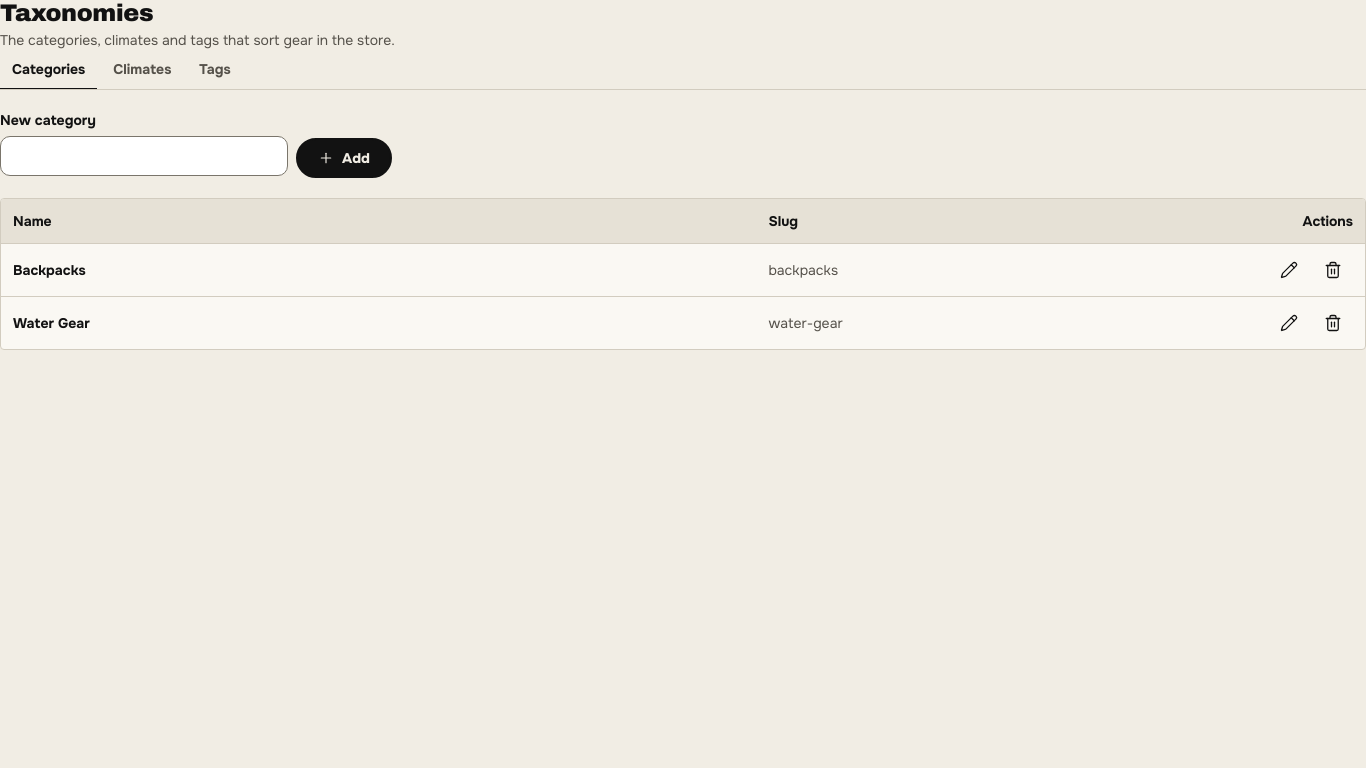
TaxonomiesPage › explains that gear still uses an item it cannot delete
Expected: the table named "Categories" is shown, top-left (1, 199), bottom-right (1365, 349)
Expected: the text "Backpacks" is shown, top-left (1, 244), bottom-right (756, 297)
Click the button named "Delete Backpacks" at (1333, 270), box top-left (1313, 250), bottom-right (1353, 290)
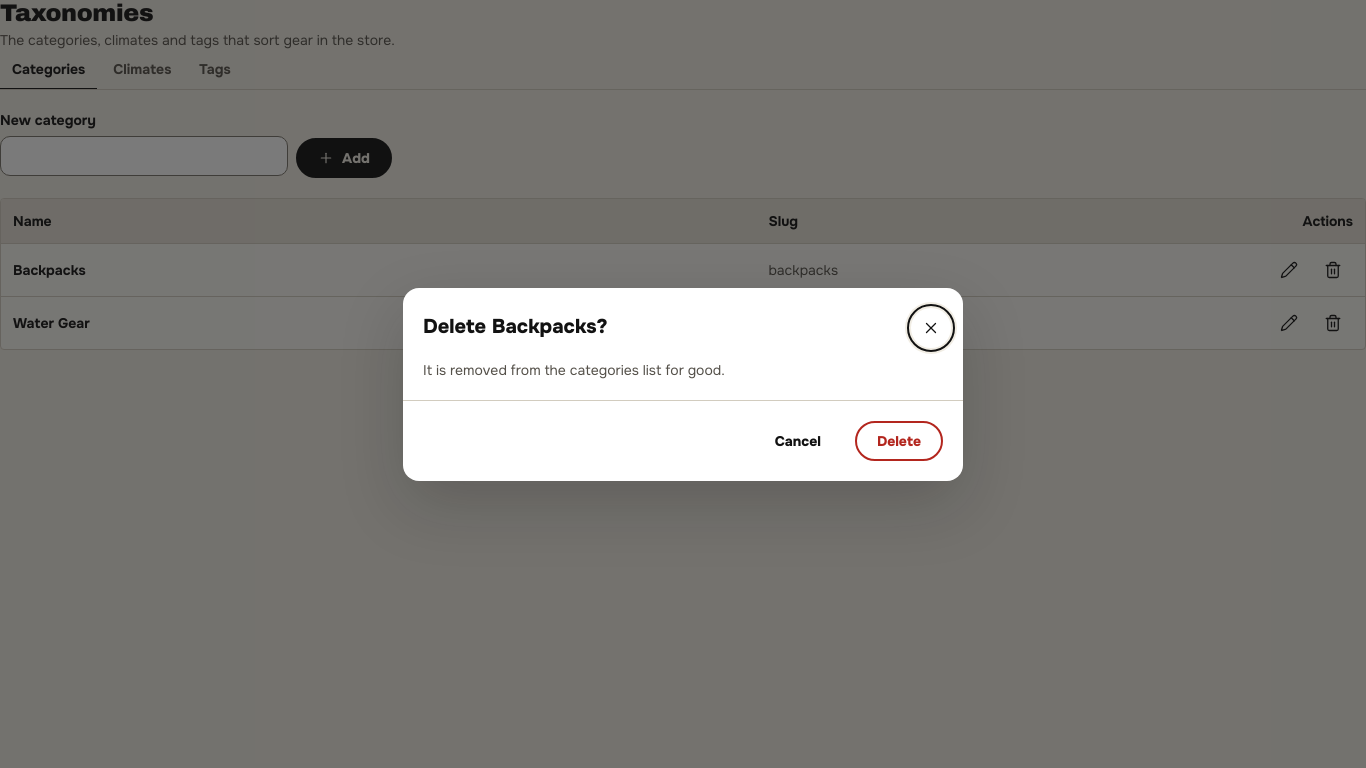
Click the button "Delete" at (899, 440), box top-left (855, 420), bottom-right (943, 460)
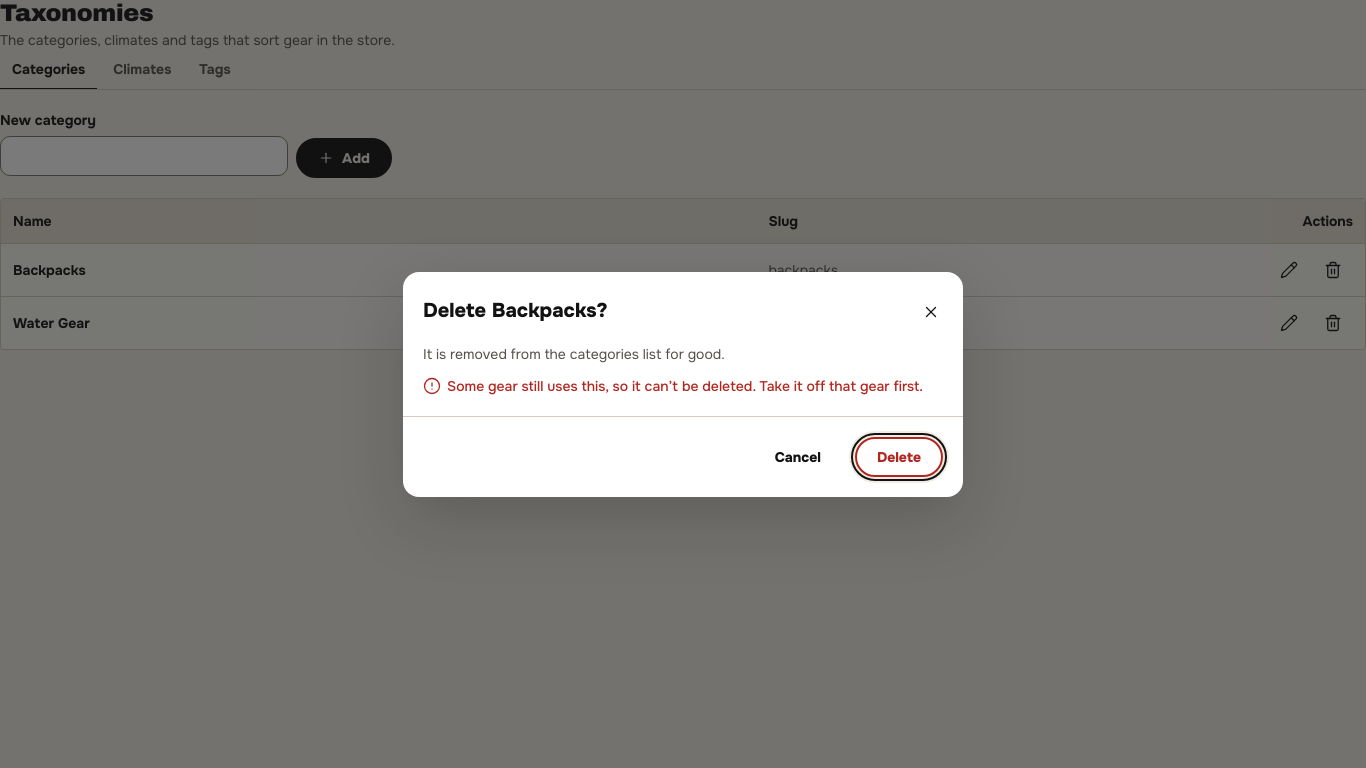
Click the button "Cancel" at (798, 456), box top-left (753, 436), bottom-right (843, 476)
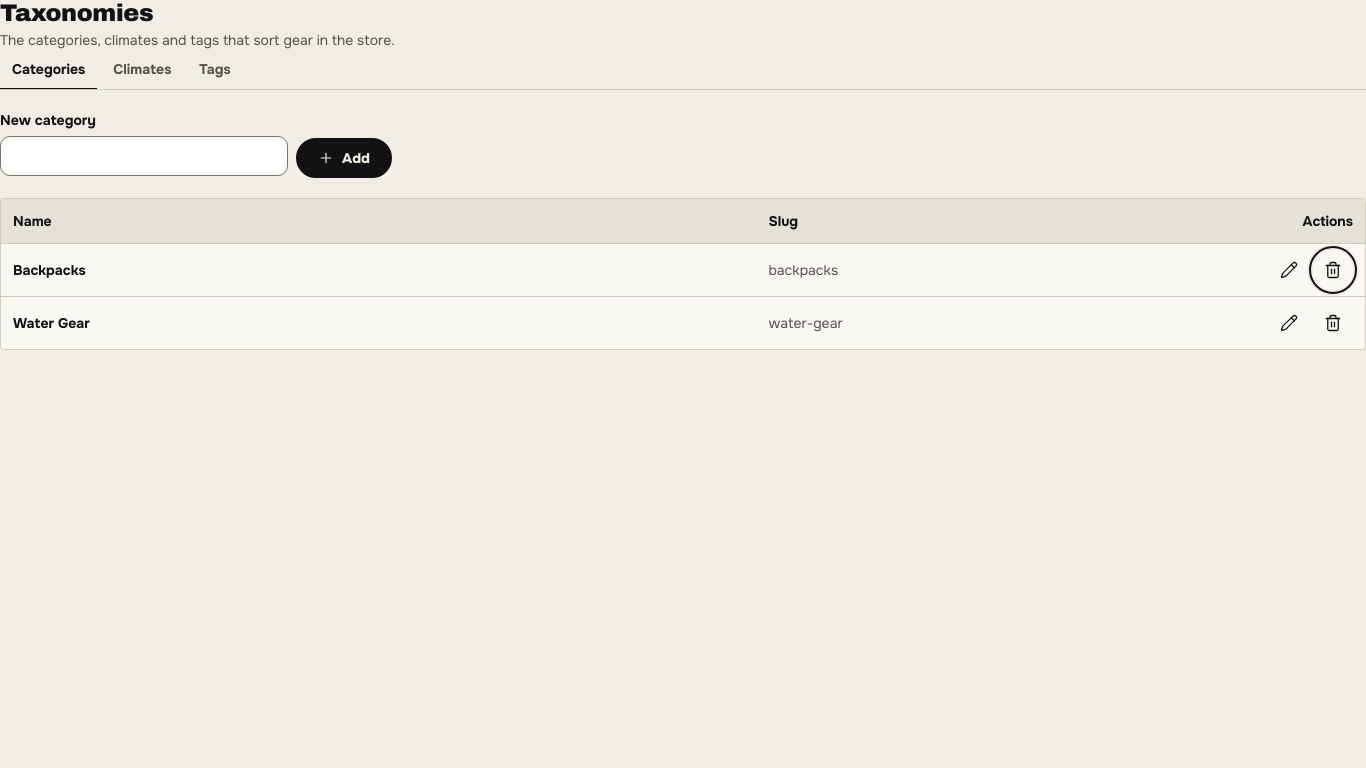
Expected: the dialog is gone
